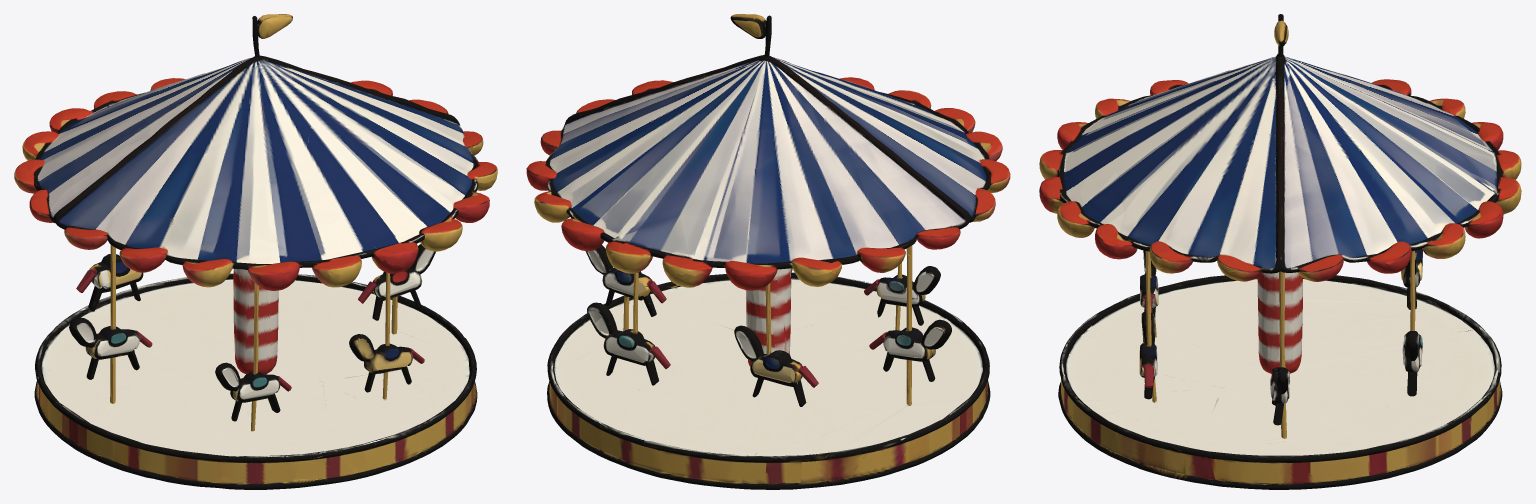
The model's file is carrusel.glb.
3 renders of one model, left to right at view 1: azimuth 30°, elevation 25°; view 2: azimuth 150°, elevation 25°; view 3: azimuth 270°, elevation 25°, orthographic.
Size of the model in its own units: 1.89 by 1.67 by 1.9.
1 material, 1 textured.
